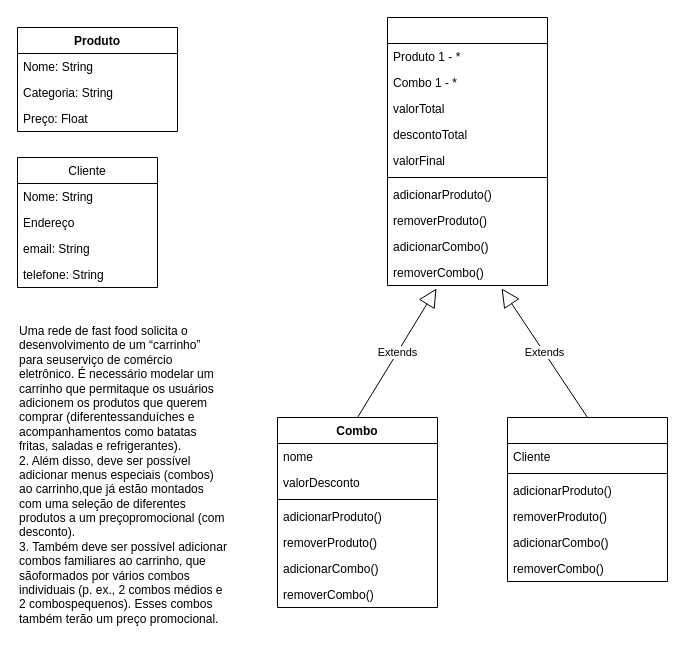
Image size: 685x655. Some labels were removed from this diagram. Here are the shapes that lost their labels. From the top down, the box of each, then its label:
(386, 16, 548, 286): Abstract_Bloco
(506, 416, 668, 582): Carrinho
